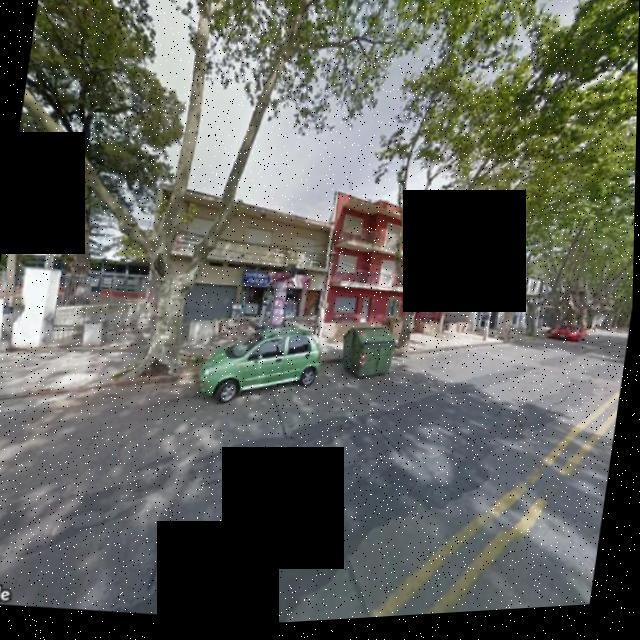bin: (333, 319, 405, 395)
